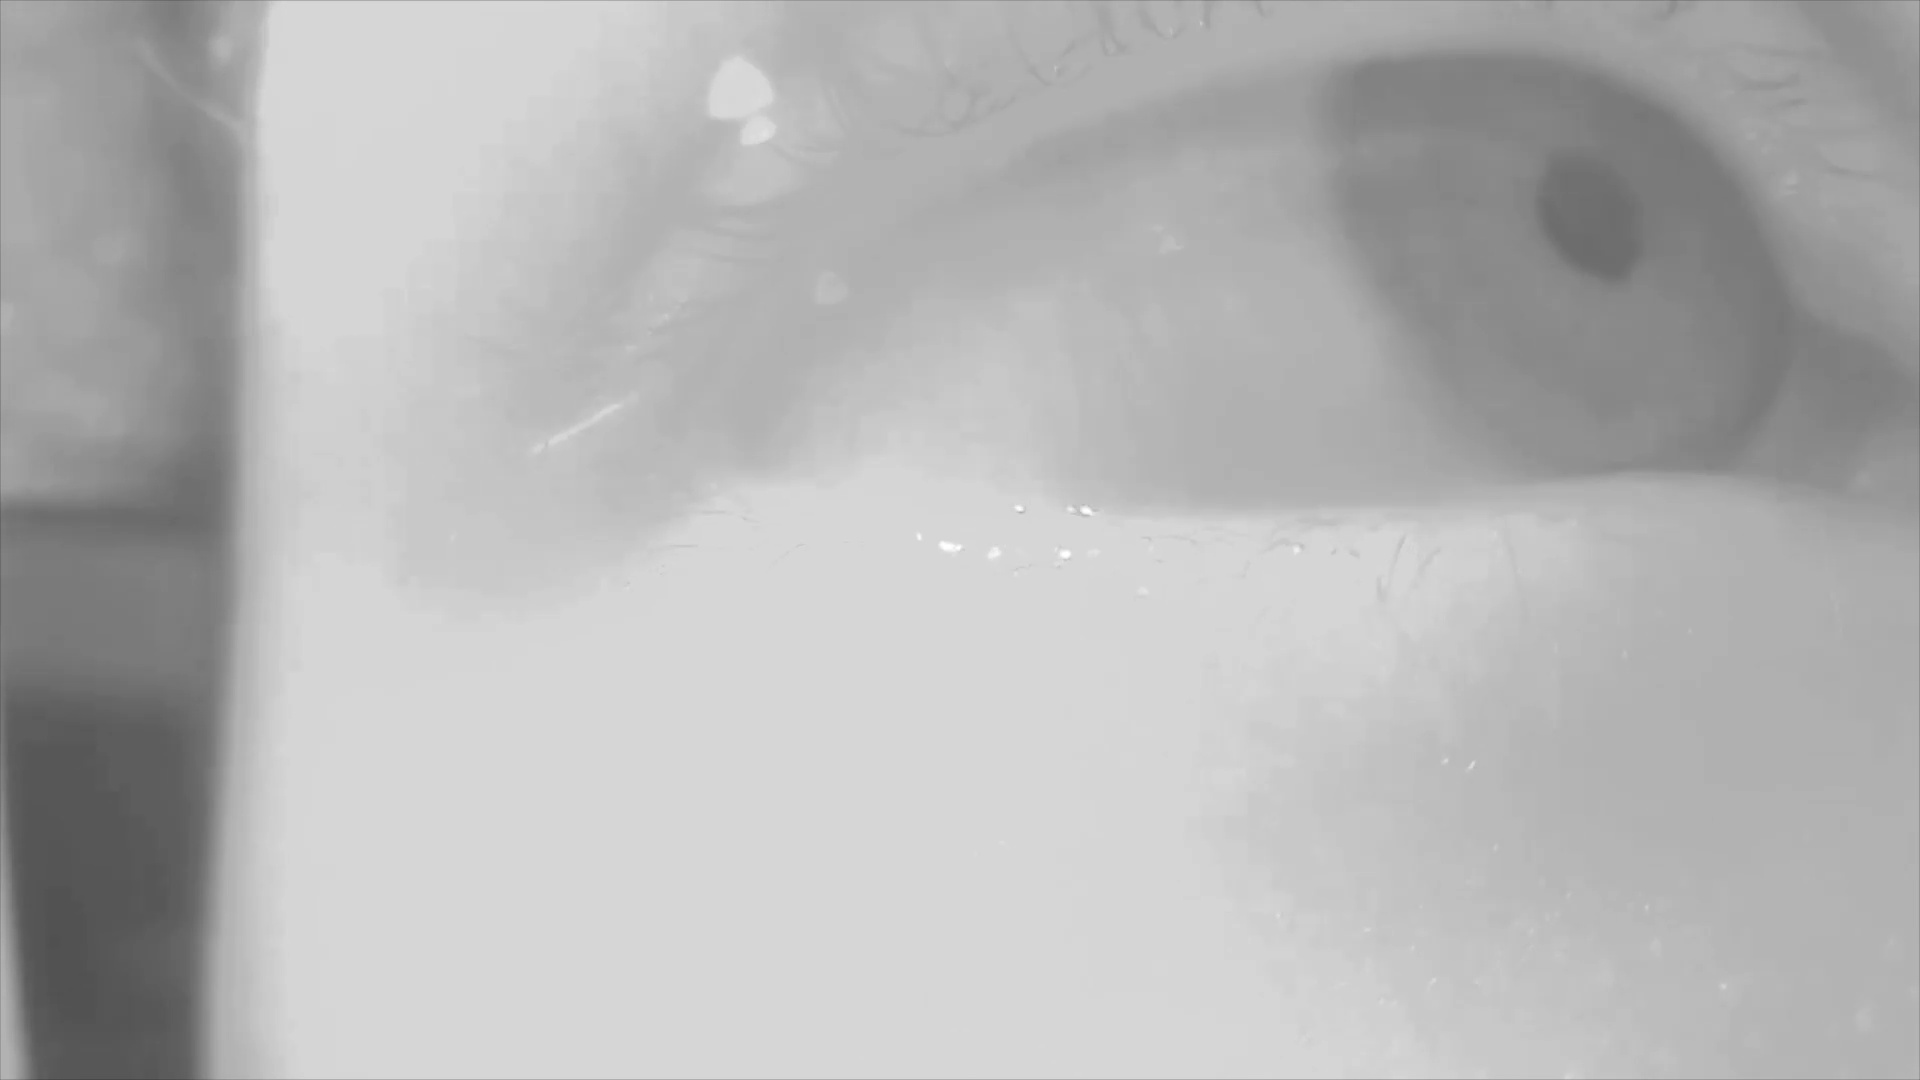pupil: (1543, 158, 1646, 281)
